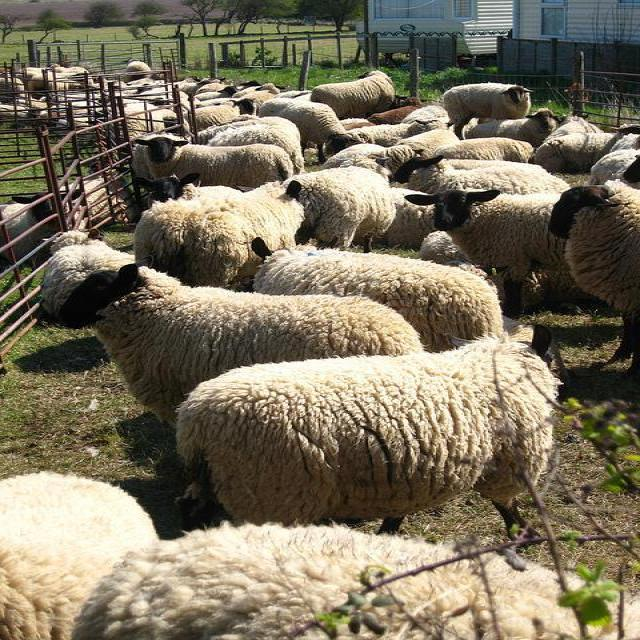Sheep: (172, 330, 557, 546), (35, 244, 424, 426), (73, 524, 639, 639), (252, 237, 504, 350), (0, 475, 163, 633), (405, 189, 571, 321), (548, 150, 639, 372), (136, 182, 308, 284), (280, 162, 399, 255), (410, 231, 506, 309), (408, 159, 572, 194), (443, 83, 533, 141)
